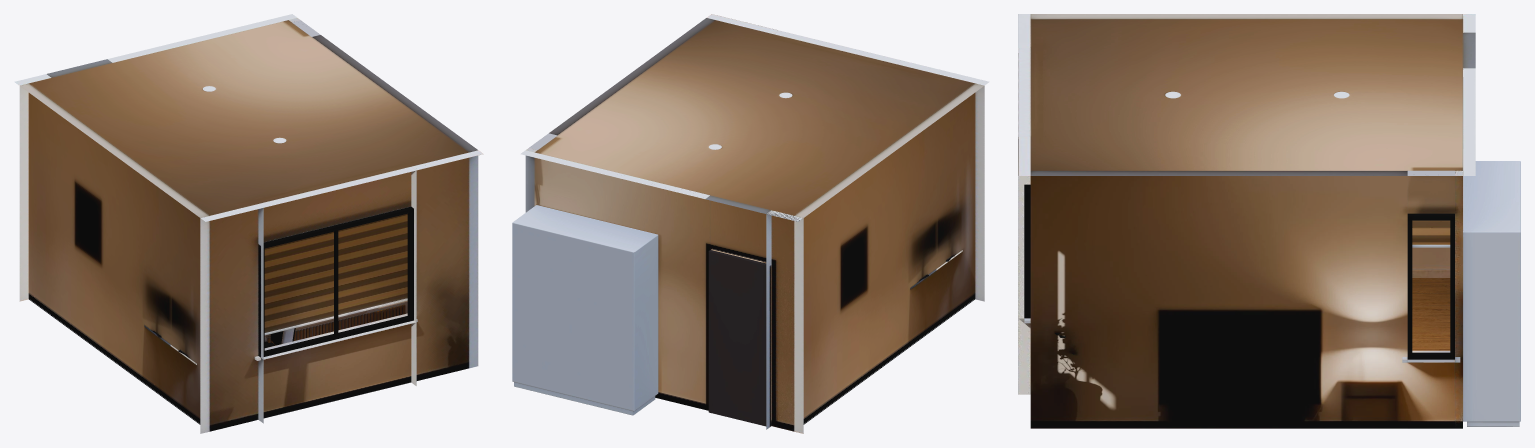
Rendered from zeke-bedroom-01.glb.
3 views of the same model, side by side, from view 1: azimuth 30°, elevation 25°; view 2: azimuth 150°, elevation 25°; view 3: azimuth 270°, elevation 25° (orthographic). The views are drawn at different scales.
Parts seen in each view (by area): view 1: ceiling, wall_left, wall_front_end, wall_front_0a, window_front_0_blind, wall_front_0b, wall_front_0c, wall_back_0a, bed_0, wall_back_end, window_front_0_frame_t, window_front_0_frame_b (+3 smaller); view 2: ceiling, wall_left, cabinet_11, wall_back_end, door_back_0_slab, wall_back_0a, wall_back_0c, wall_front_0a, wall_front_0c; view 3: wall_right_0a, ceiling, cabinet_11, wall_right_0b, floor, wall_front_end, wall_right_0c, wall_right_end, wall_back_end, wall_front_0c, window_right_0_blind, wall_left (+3 smaller).
Boxes of the visible parts, box(x1,y1,x2,y2) form: ceiling: box(20, 20, 477, 217); wall_left: box(28, 93, 200, 424); wall_front_end: box(411, 150, 483, 385); wall_front_0a: box(200, 204, 263, 433); window_front_0_blind: box(264, 213, 407, 332); wall_front_0b: box(263, 320, 415, 418); wall_front_0c: box(259, 167, 415, 242); wall_back_0a: box(14, 74, 51, 301); bed_0: box(265, 300, 407, 345); wall_back_end: box(108, 14, 297, 62); window_front_0_frame_t: box(263, 207, 413, 248); window_front_0_frame_b: box(263, 316, 413, 356); ceiling: box(535, 18, 983, 221); wall_left: box(803, 93, 975, 424); cabinet_11: box(512, 205, 658, 415); wall_back_end: box(520, 150, 710, 410); door_back_0_slab: box(708, 250, 766, 426); wall_back_0a: box(766, 210, 803, 433); wall_back_0c: box(710, 200, 766, 262); wall_front_0a: box(927, 68, 989, 301); wall_front_0c: box(774, 30, 931, 71); wall_right_0a: box(1030, 176, 1407, 428); ceiling: box(1030, 14, 1475, 175); cabinet_11: box(1463, 161, 1520, 426); wall_right_0b: box(1407, 359, 1454, 428); floor: box(1412, 278, 1450, 350); wall_front_end: box(1018, 137, 1030, 394); wall_right_0c: box(1407, 170, 1454, 213); wall_right_end: box(1455, 170, 1462, 428); wall_back_end: box(1463, 68, 1475, 175); wall_front_0c: box(1018, 48, 1030, 136); window_right_0_blind: box(1412, 220, 1450, 244); wall_left: box(1412, 247, 1450, 269).
Size of the model in its own units: 3.64 by 2.7 by 4.77.
Materials: 56 (56 with a texture image).
